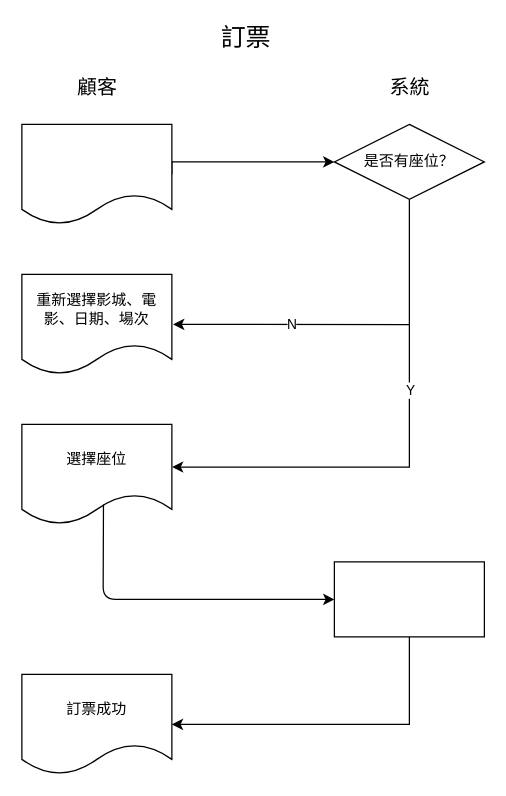
Some shapes in this 506 by 796 pixel diagram are drawn without their labels. Each missing label, with the box of its shape:
訂票處理: (333, 561, 484, 637)
選擇影城、電影、日期、場次: (21, 123, 172, 224)
